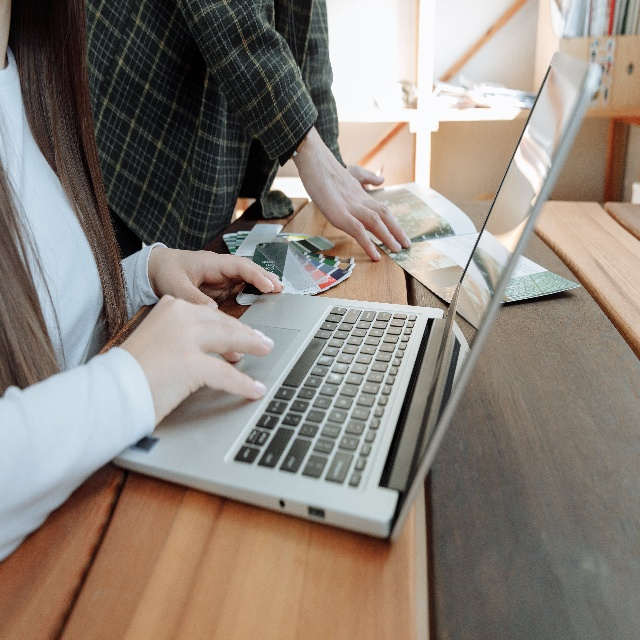Sin_guantes: (119, 293, 274, 428), (297, 138, 411, 263), (151, 245, 285, 310), (344, 164, 385, 191)
